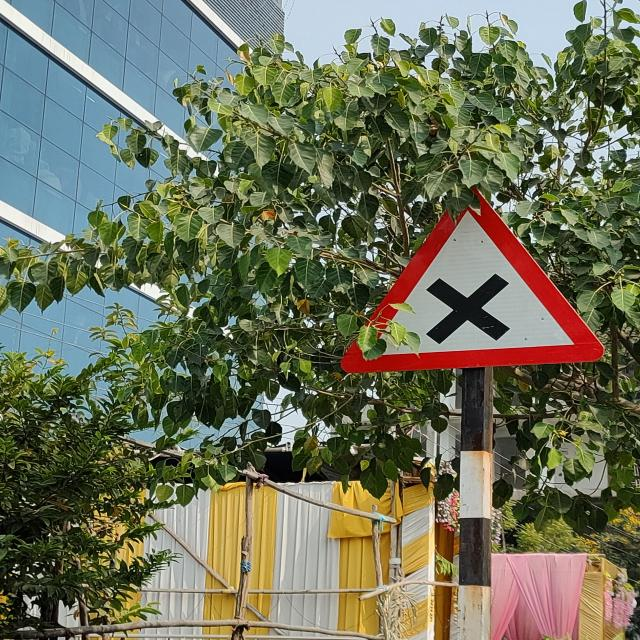cross_road: (341, 187, 607, 372)
